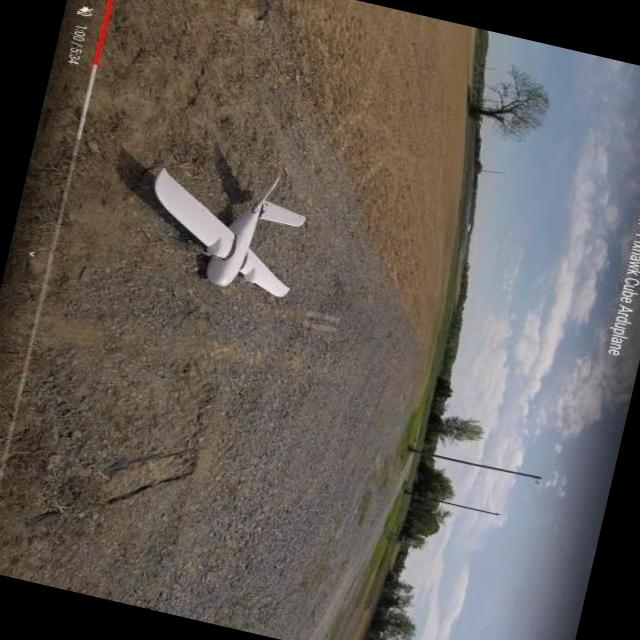UAV: (152, 155, 311, 294)
